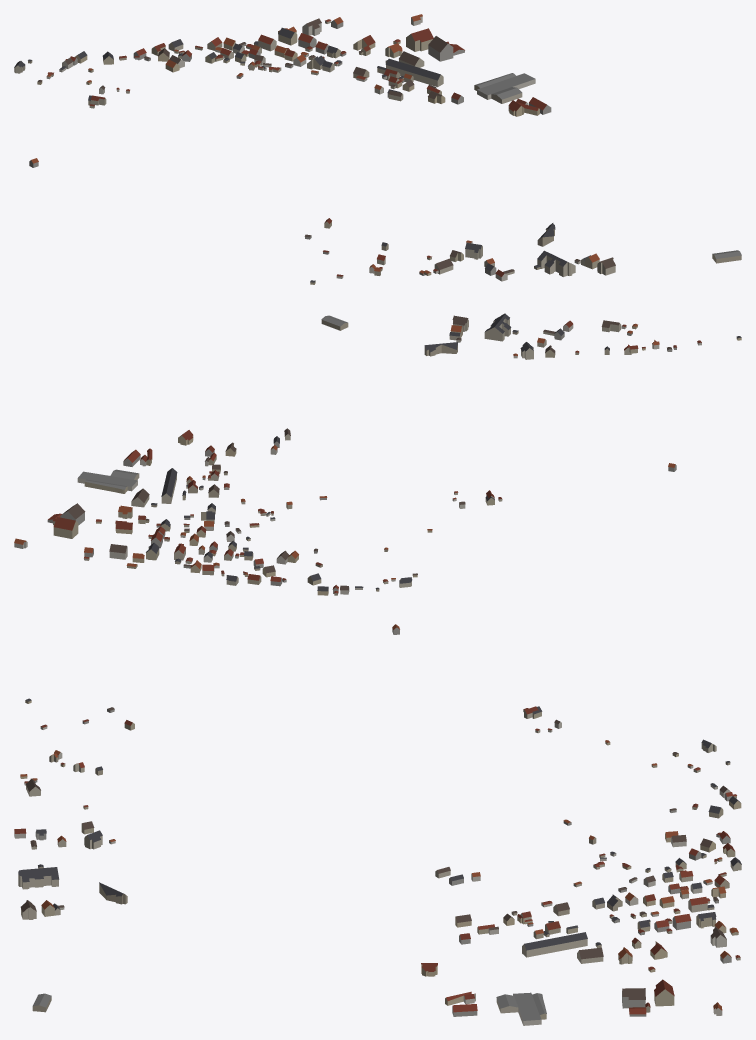
3 views of the same model, one above another, from view 1: azimuth 30°, elevation 25°; view 2: azimuth 150°, elevation 25°; view 3: azimuth 270°, elevation 25° (orthographic). The views are drawn at different scales.
Parts seen in each view (by area): view 1: buildings; view 2: buildings; view 3: buildings.
Boxes of the visible parts, box(x1,y1,x2,y2) form: buildings: box(14, 14, 741, 284); buildings: box(14, 313, 741, 595); buildings: box(14, 624, 741, 1025).
Size of the model in its own units: 762 by 138 by 807.
